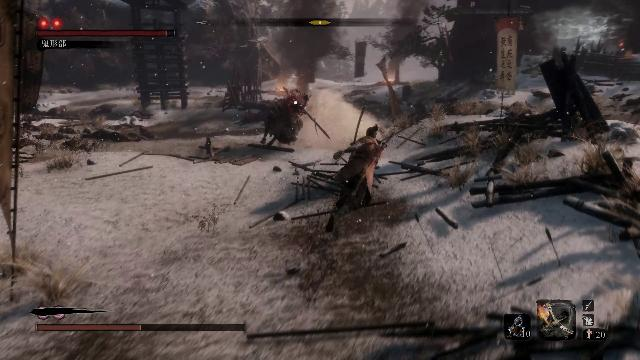sk: (329, 123, 387, 221)
